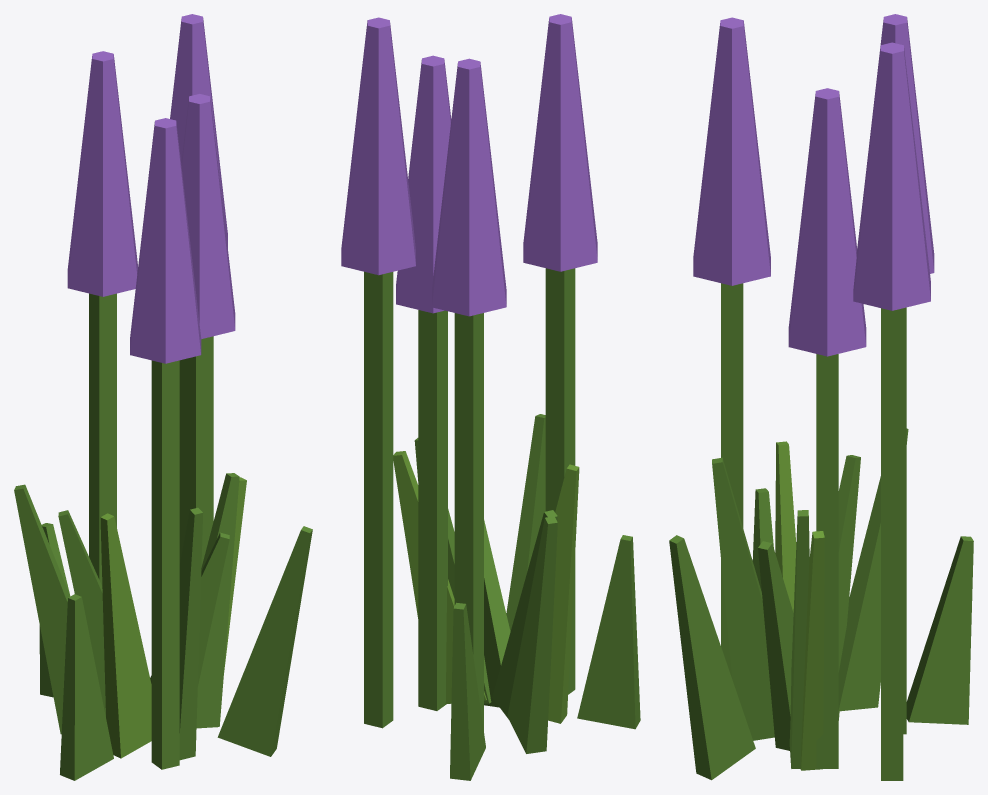
Rendered from Flowers_Lupine.fbx.
3 renders of one model, left to right at view 1: azimuth 30°, elevation 25°; view 2: azimuth 150°, elevation 25°; view 3: azimuth 270°, elevation 25°, orthographic. The views are drawn at different scales.
Parts seen in each view (by area): view 1: Flowers_Lupine; view 2: Flowers_Lupine; view 3: Flowers_Lupine.
Boxes of the visible parts, <box> form: Flowers_Lupine: <box>14,14,312,780</box>; Flowers_Lupine: <box>341,14,640,780</box>; Flowers_Lupine: <box>669,14,973,780</box>.
Bounding box in the file's own units: 0.3154 × 0.9 × 0.3397.
